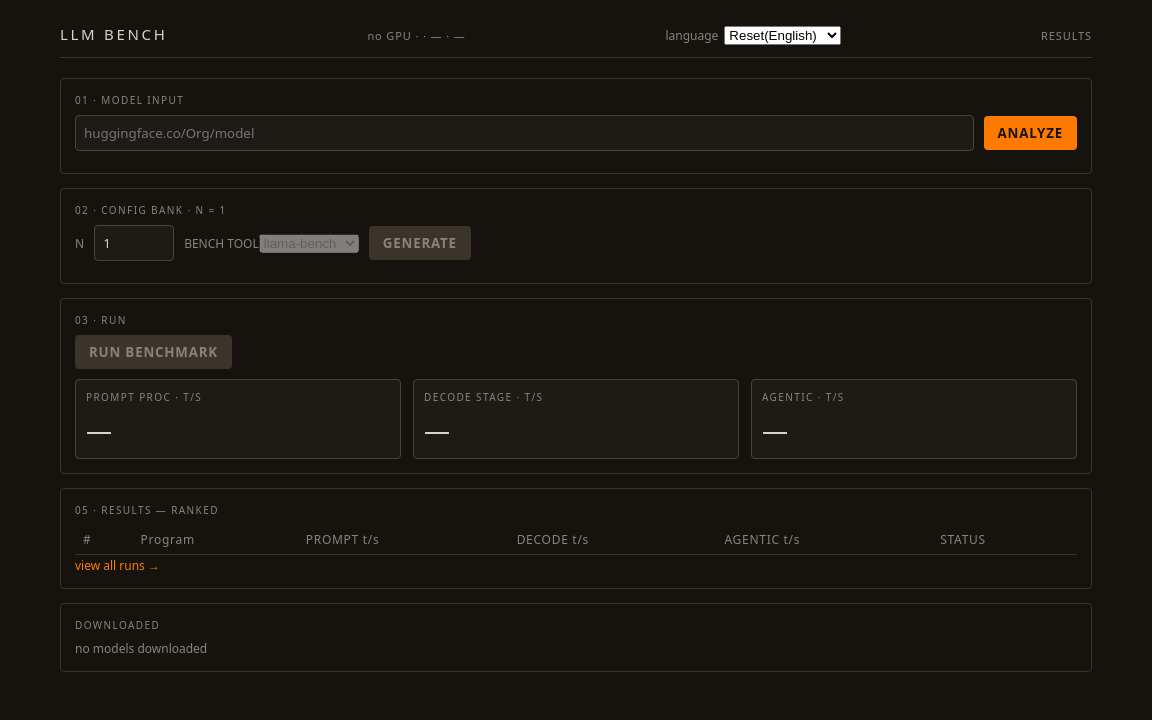
it: fit line renders NO FIT when verdict is no_fit
The image size is (1152, 720).
Type "org/model" into the field with placeholder "huggingface.co/Org/model" at (524, 133), box [75, 115, 974, 151]
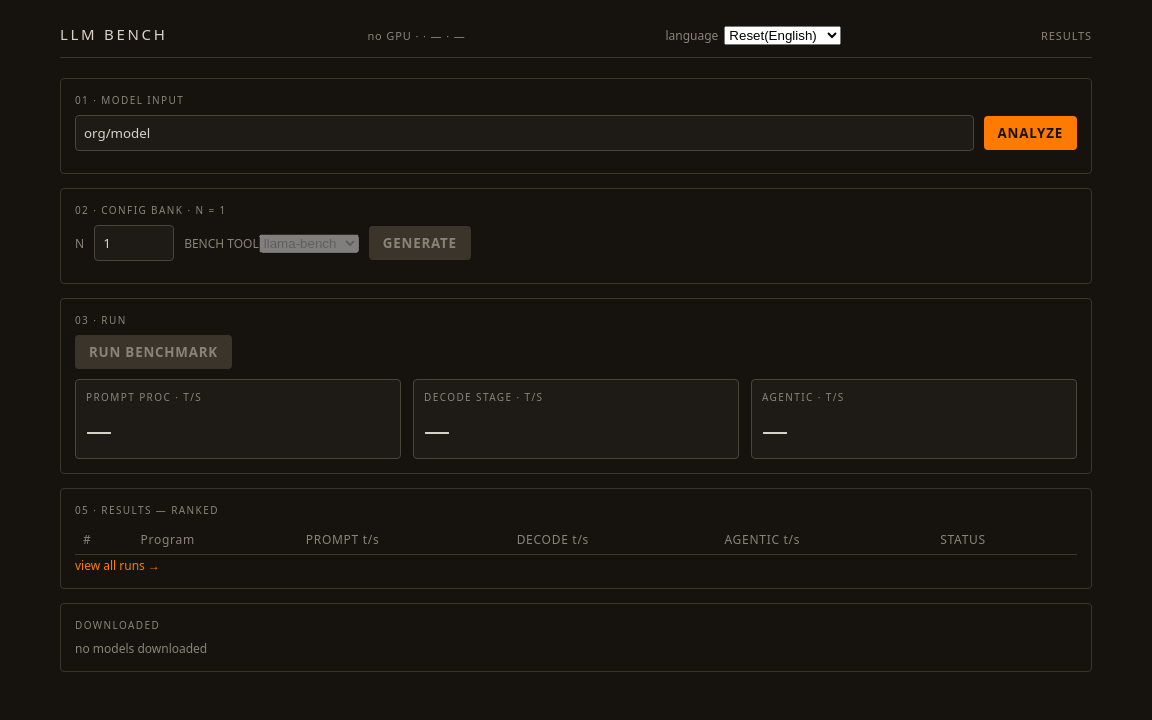
Click the button "ANALYZE" at (1030, 133), box [984, 116, 1077, 150]
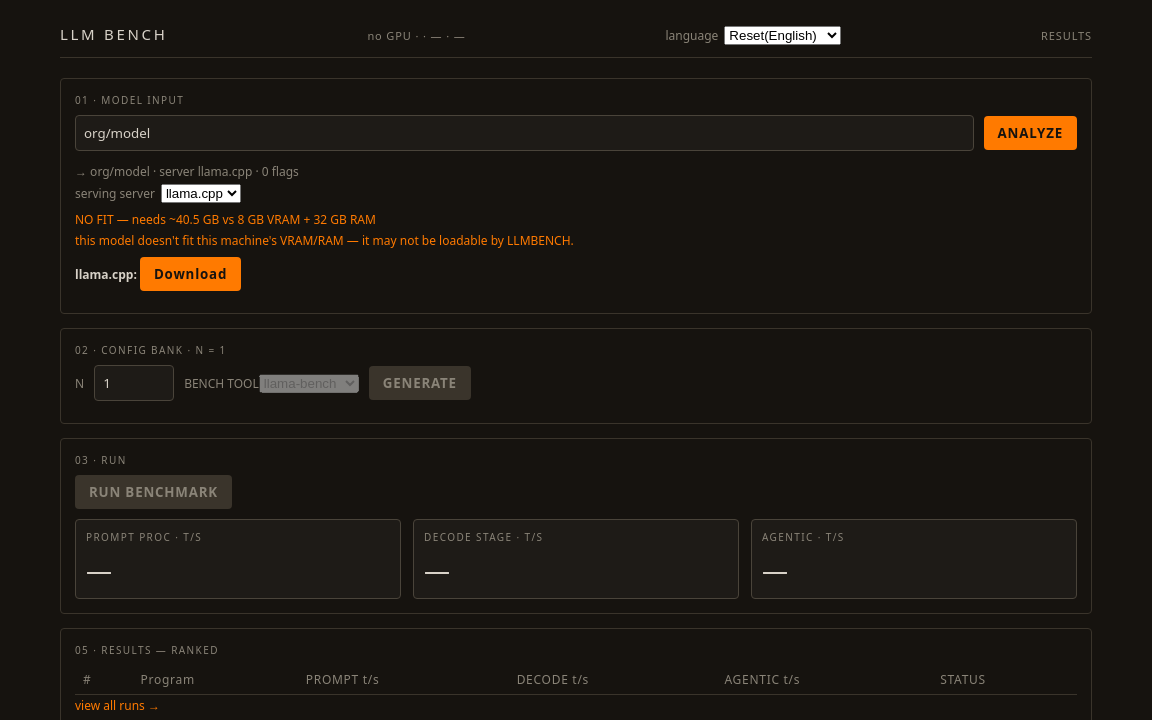
Expected: the text "NO FIT — needs ~40.5 GB vs 8 GB VRAM + 32 GB RAM" is shown, [75, 211, 376, 228]
